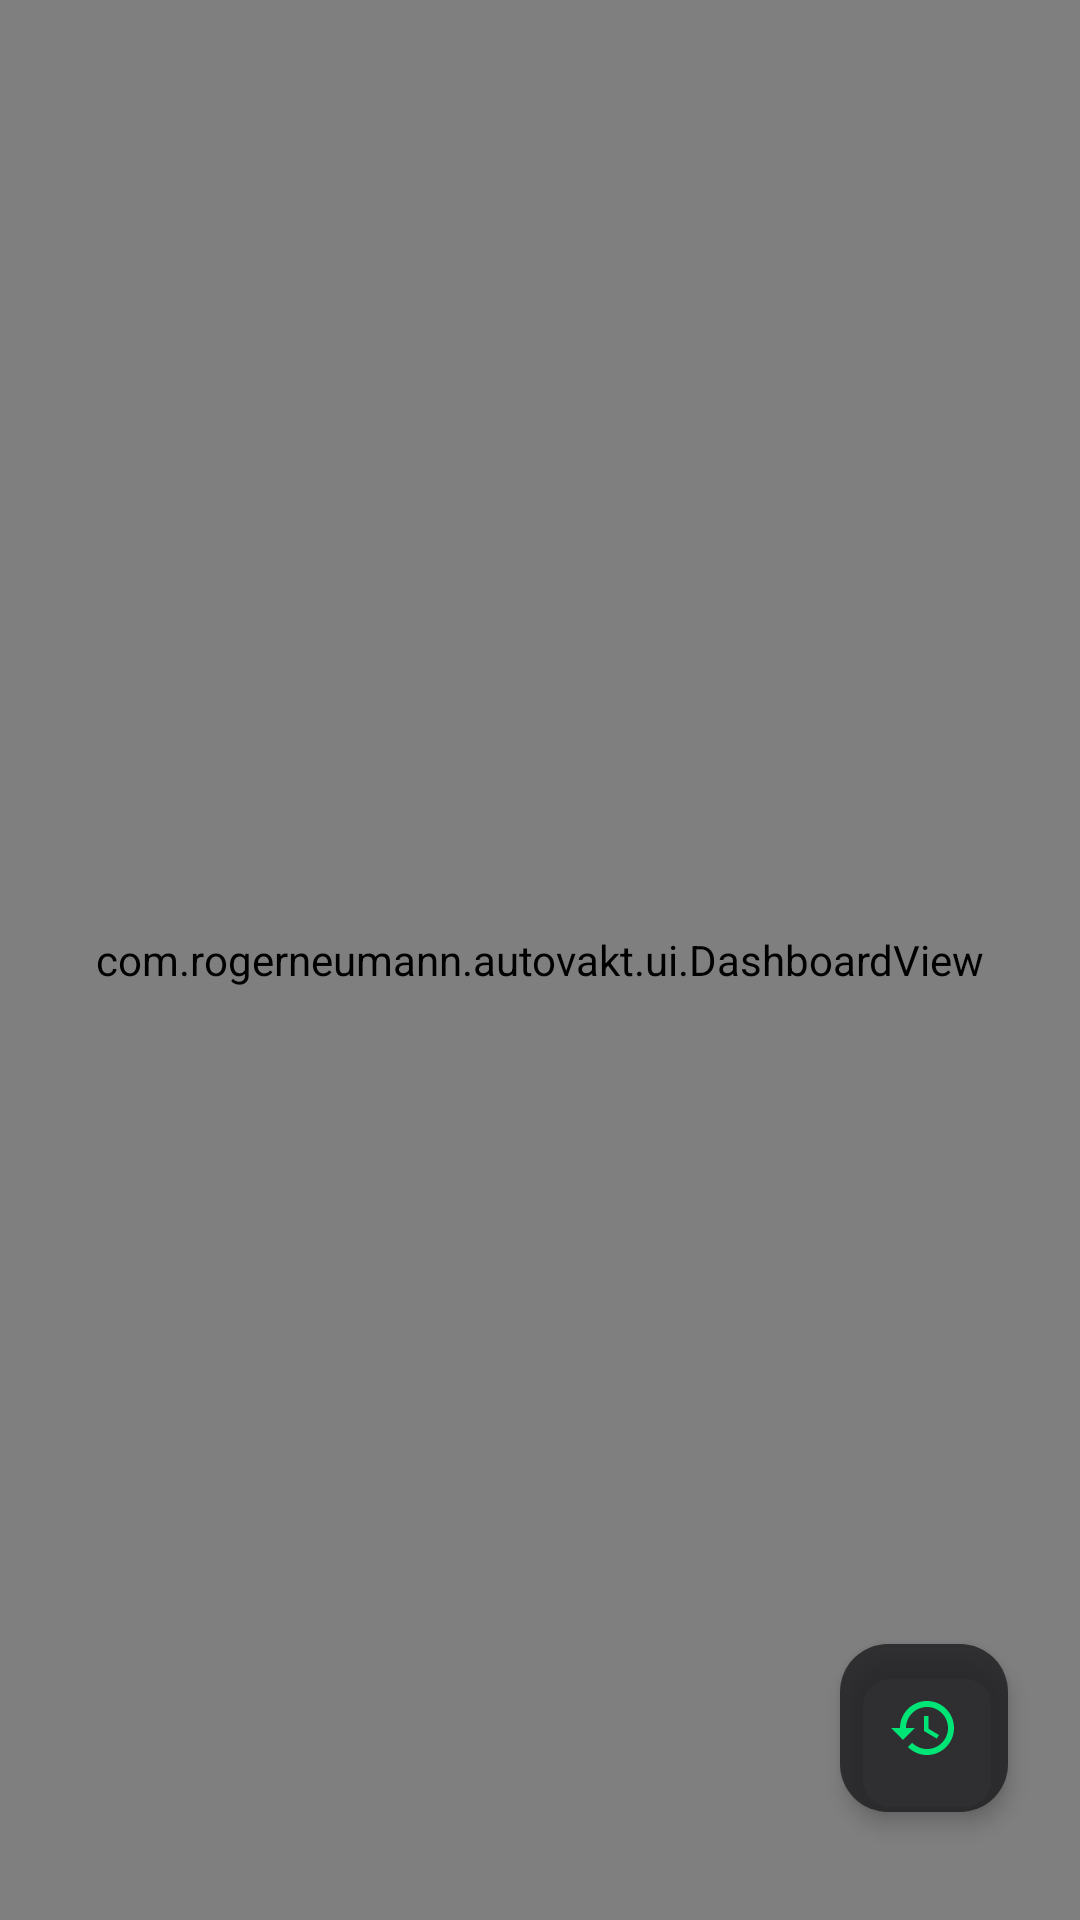

Where icons sit on this 1080 x 1920 app screen, as (x1, y1, x2, y2):
Trip History: (840, 1644, 1008, 1812)
